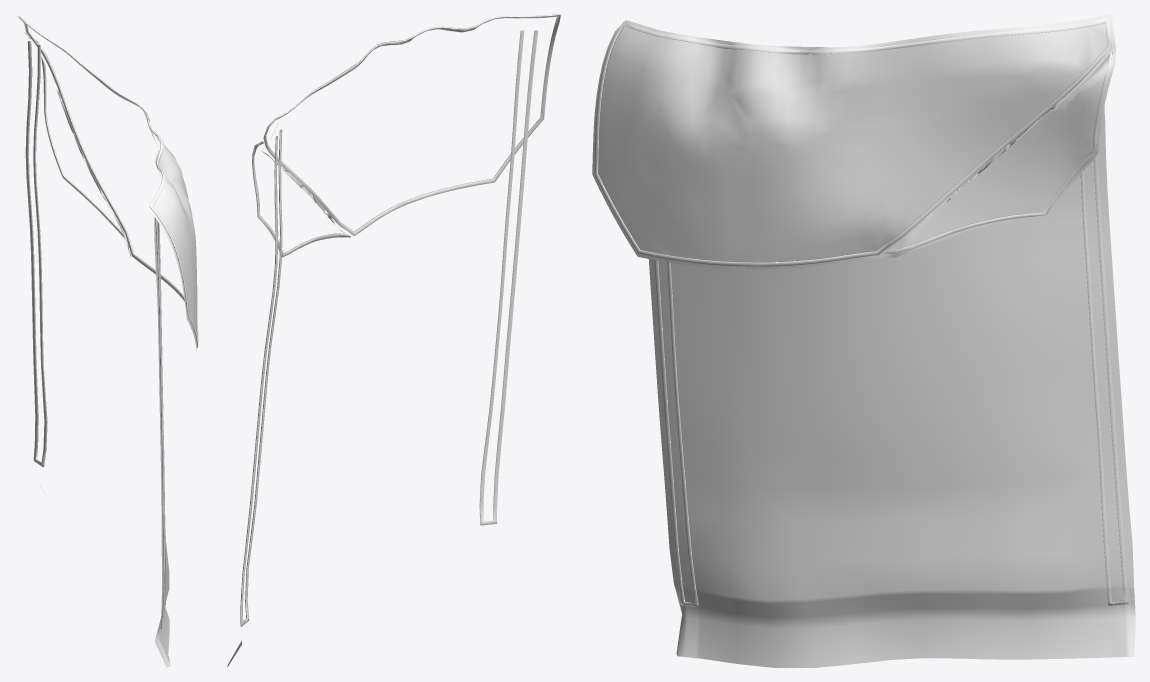
File: Pants_Pocket_RIght_V2.glb
3 renders of one model, left to right at view 1: azimuth 30°, elevation 25°; view 2: azimuth 150°, elevation 25°; view 3: azimuth 270°, elevation 25°, orthographic. The views are drawn at different scales.
Visible parts, largest first — view 1: Pants_Rope_Pocket_RIght1.001, Pants_Pocket_RIght.001; view 2: Pants_Rope_Pocket_RIght1.001; view 3: Pants_Pocket_RIght.001, Pants_Rope_Pocket_RIght1.001.
Part boxes in pixels (left/top/right/bottom): Pants_Rope_Pocket_RIght1.001: left=18, top=16, right=198, bottom=629; Pants_Pocket_RIght.001: left=16, top=15, right=197, bottom=667; Pants_Rope_Pocket_RIght1.001: left=240, top=14, right=560, bottom=626; Pants_Pocket_RIght.001: left=592, top=14, right=1135, bottom=667; Pants_Rope_Pocket_RIght1.001: left=594, top=18, right=1128, bottom=607.
Bounding box in the file's own units: 0.0605 × 0.3065 × 0.2312.
2 materials, 2 textured.
